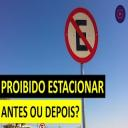NoEstacionar: (62, 3, 102, 68)
